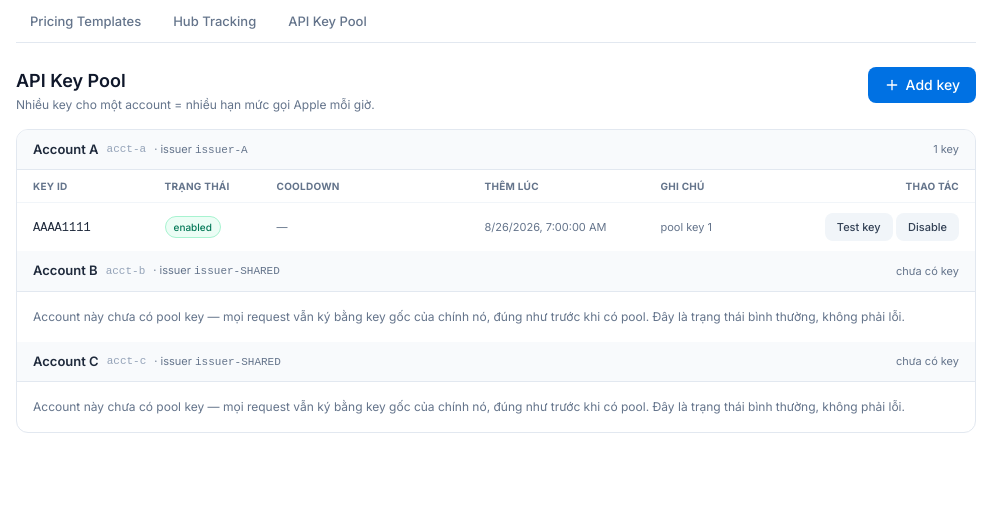
Test: ⚠ (d) Test key never shows success for a non-success › ✅ renders the budget on a real success
This screenshot has width=993, height=526.
Expected: the row with test id "key-row-AAAA1111" is shown, x1=17 y1=202 x2=975 y2=251
Click the button with test id "test-AAAA1111": (859,227) x1=825 y1=213 x2=893 y2=241
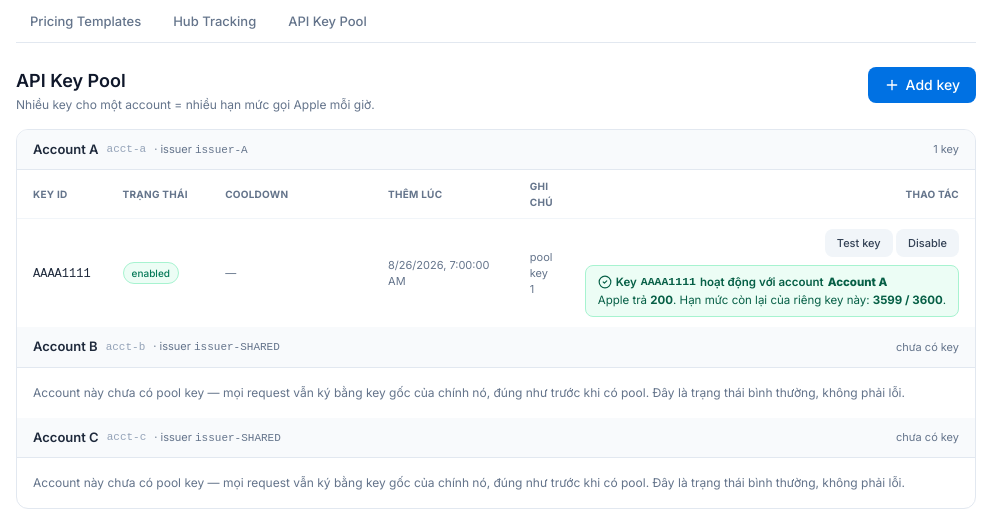
Result: the element with test id "test-ok" shows "3599" at x1=873 y1=293 x2=902 y2=307
Result: the element with test id "test-ok" shows "3600" at x1=912 y1=293 x2=943 y2=307
Result: the element with test id "test-ok" shows "account A" at x1=828 y1=275 x2=887 y2=289
